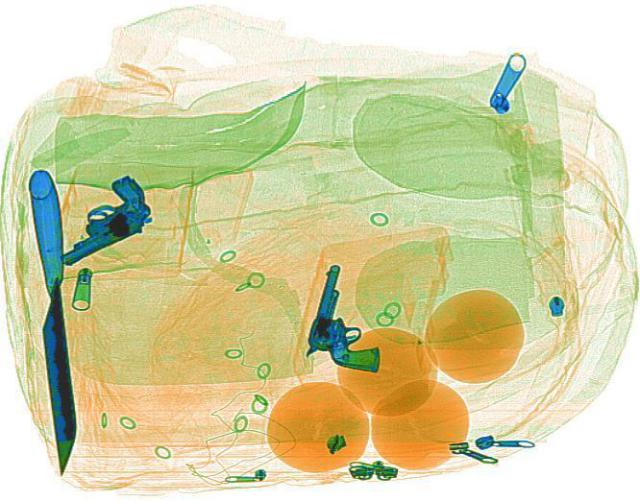Gun: (23, 171, 171, 266), (297, 261, 403, 372)
Knife: (25, 168, 81, 473)
